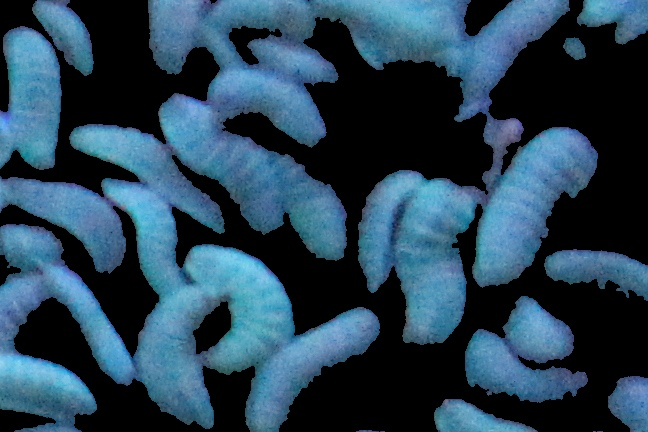larvae: (477, 124, 606, 296), (156, 95, 302, 237), (70, 123, 239, 233), (244, 307, 381, 432), (458, 1, 586, 114), (127, 277, 222, 428), (97, 172, 196, 306), (396, 176, 472, 349), (39, 252, 136, 385), (187, 252, 291, 373), (467, 326, 591, 419), (204, 67, 332, 141), (360, 157, 427, 297), (1, 31, 62, 174), (1, 350, 113, 424), (286, 154, 351, 263), (502, 293, 590, 372), (542, 238, 648, 295), (199, 1, 326, 48), (135, 1, 210, 78), (249, 33, 348, 91), (31, 1, 99, 81), (428, 396, 538, 432), (1, 268, 40, 354), (1, 166, 10, 240)
